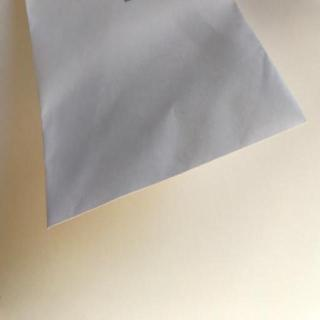Anorganik: (13, 3, 313, 233)
